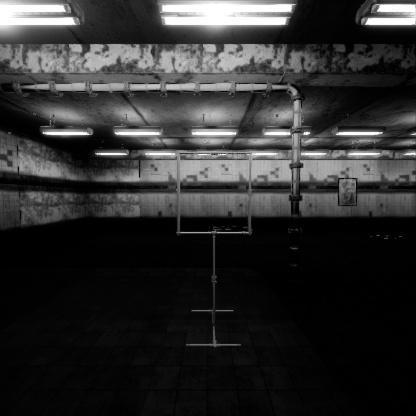gate: (177, 180, 258, 264)
